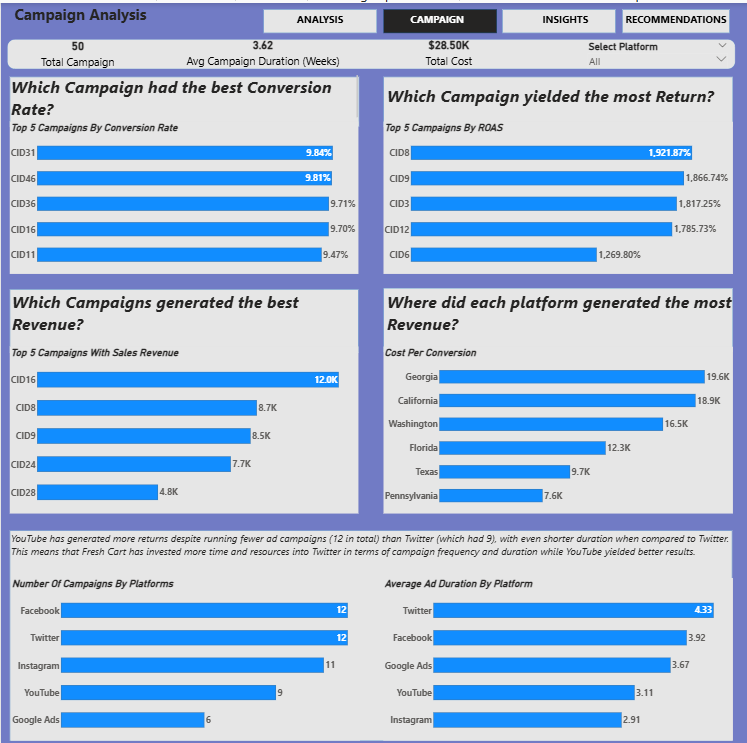

What the dashboard file says about the page in this screenshot:
{"tool":"powerbi","page":{"name":"Campaign","canvas":[4000,4000],"ordinal":2},"visuals":[{"type":"shape","box":[1408,32,608,128],"z":0},{"type":"shape","box":[2048.8,398.6,1873.7,268.2],"z":1000},{"type":"shape","box":[44.7,398.6,1873.7,268.2],"z":2000},{"type":"shape","box":[2048.8,1531,1873.7,342.7],"z":3000},{"type":"shape","box":[48.4,1534.7,1870,339],"z":4000},{"type":"shape","box":[48.4,2827.3,3874.1,1128.7],"z":5000},{"type":"shape","box":[32,192,3904,160],"z":6000},{"type":"textbox","box":[64,0,768,128],"z":7000},{"type":"card","title":"Total Ad Spent","fields":{"Values":["Count(ad_campaign_data.CampaignID)"]},"box":[52.2,167.6,715.2,186.3],"z":8000},{"type":"card","title":"Total Ad Spent","fields":{"Values":["Avg(ad_campaign_data.AdDurationWeeks)"]},"box":[928,160,960,192],"z":9000},{"type":"card","title":"Total Ad Spent","fields":{"Values":["Sum(ad_campaign_data.Cost)"]},"box":[2016,160,768,192],"z":10000},{"type":"barChart","title":"Top 5 Campaigns By Conversion Rate","fields":{"Y":["DAX Measures.Conversion Rate"],"Category":["ad_campaign_data.CampaignID"]},"box":[48.4,637,1870,815.8],"z":11000},{"type":"barChart","title":"Top 5 Campaigns By ROAS","fields":{"Y":["DAX Measures.ROAS"],"Category":["ad_campaign_data.CampaignID"]},"box":[2048.8,637,1873.7,815.8],"z":12000},{"type":"barChart","title":"Top 5 Campaigns With Sales Revenue","fields":{"Y":["Sum(ad_campaign_data.ConversionValue)"],"Category":["ad_campaign_data.CampaignID"]},"box":[48.4,1843.9,1870,894],"z":13000},{"type":"barChart","title":"Cost Per Conversion","fields":{"Y":["Sum(ad_campaign_data.ConversionValue)"],"Category":["ad_campaign_data.State"]},"box":[2048.8,1843.9,1873.7,894],"z":14000},{"type":"barChart","title":"Number Of Campaigns By Platforms","fields":{"Category":["ad_campaign_data.Platform"],"Y":["CountNonNull(ad_campaign_data.CampaignID)"]},"box":[52.2,3084.4,1870,871.7],"z":15000},{"type":"barChart","title":"Average Ad Duration By Platform","fields":{"Category":["ad_campaign_data.Platform"],"Y":["Avg(ad_campaign_data.AdDurationWeeks)"]},"box":[2048.8,3084.4,1873.7,871.7],"z":16000},{"type":"textbox","box":[48.4,2827.3,3874.1,227.2],"z":17000},{"type":"textbox","box":[52.2,1534.7,1870,309.2],"z":18000},{"type":"textbox","box":[2064,1536,1872,288],"z":19000},{"type":"textbox","box":[48,384,1872,240],"z":20000},{"type":"textbox","box":[2064,432,1824,240],"z":21000},{"type":"textbox","box":[1536,32,352,128],"z":22000},{"type":"shape","box":[2048,32,608,128],"z":23000},{"type":"shape","box":[2688,32,608,128],"z":24000},{"type":"shape","box":[3328,32,576,128],"z":25000},{"type":"textbox","box":[2176,32,320,96],"z":26000},{"type":"textbox","box":[2880,32,288,128],"z":27000},{"type":"textbox","box":[3328,32,576,128],"z":28000},{"type":"slicer","fields":{"Values":["ad_campaign_data.Platform"]},"box":[3136,192,768,160],"z":29000}]}

Visuals, with their boxes in screenshot pixels (x1, y1, x2, y2), scaled from the page's 4000x4000 canvas onto the 747x743 screenshot:
shape: locate(263, 6, 376, 30)
shape: locate(383, 74, 733, 124)
shape: locate(8, 74, 358, 124)
shape: locate(383, 284, 733, 348)
shape: locate(9, 285, 358, 348)
shape: locate(9, 525, 733, 735)
shape: locate(6, 36, 735, 65)
textbox: locate(12, 0, 155, 24)
"Total Ad Spent" card: locate(10, 31, 143, 66)
"Total Ad Spent" card: locate(173, 30, 353, 65)
"Total Ad Spent" card: locate(376, 30, 520, 65)
"Top 5 Campaigns By Conversion Rate" barChart: locate(9, 118, 358, 270)
"Top 5 Campaigns By ROAS" barChart: locate(383, 118, 733, 270)
"Top 5 Campaigns With Sales Revenue" barChart: locate(9, 343, 358, 509)
"Cost Per Conversion" barChart: locate(383, 343, 733, 509)
"Number Of Campaigns By Platforms" barChart: locate(10, 573, 359, 735)
"Average Ad Duration By Platform" barChart: locate(383, 573, 733, 735)
textbox: locate(9, 525, 733, 567)
textbox: locate(10, 285, 359, 343)
textbox: locate(385, 285, 735, 339)
textbox: locate(9, 71, 359, 116)
textbox: locate(385, 80, 726, 125)
textbox: locate(287, 6, 353, 30)
shape: locate(382, 6, 496, 30)
shape: locate(502, 6, 616, 30)
shape: locate(622, 6, 729, 30)
textbox: locate(406, 6, 466, 24)
textbox: locate(538, 6, 592, 30)
textbox: locate(622, 6, 729, 30)
slicer - ad_campaign_data.Platform: locate(586, 36, 729, 65)
